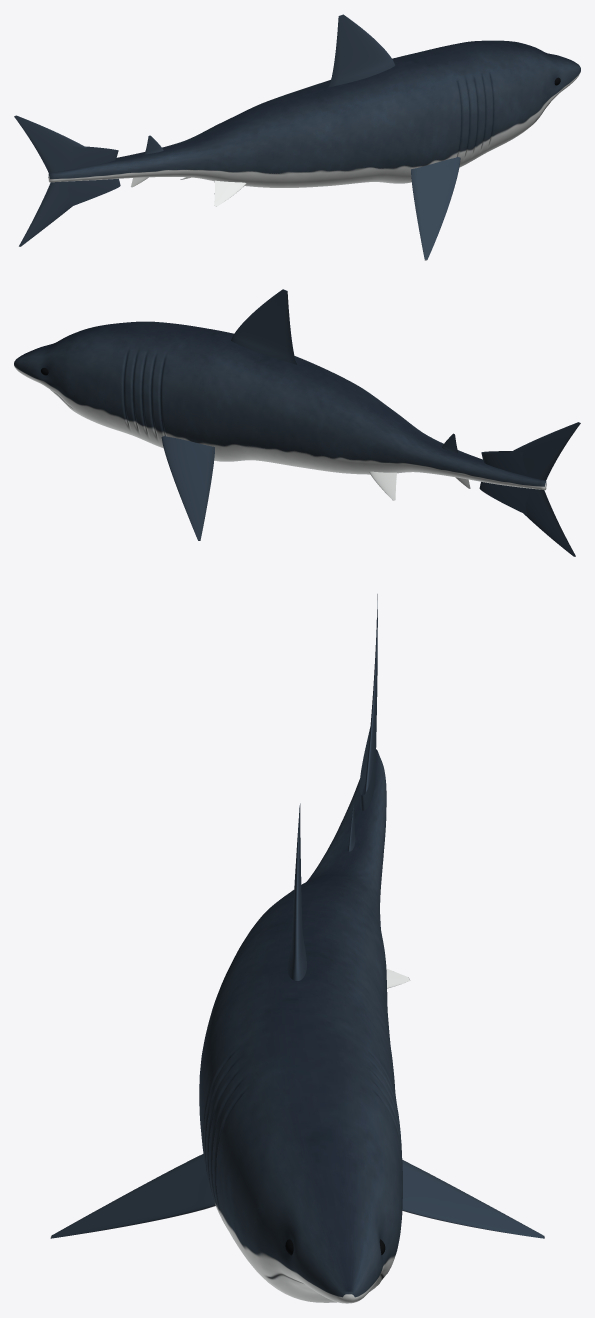
The model's file is salmon_shark.glb.
The picture shows the model from 3 angles, top to bottom: view 1: azimuth 30°, elevation 25°; view 2: azimuth 150°, elevation 25°; view 3: azimuth 270°, elevation 25°; orthographic projection. The views are drawn at different scales.
Visible parts, largest first — view 1: Salmonshark_Body, Salmonshark_Fins; view 2: Salmonshark_Body, Salmonshark_Fins; view 3: Salmonshark_Body, Salmonshark_Fins.
Part boxes in pixels (x1,y1,x2,y2): Salmonshark_Body: (48,40,580,187); Salmonshark_Fins: (14,14,460,260); Salmonshark_Body: (14,321,546,489); Salmonshark_Fins: (161,289,580,556); Salmonshark_Body: (199,749,402,1303); Salmonshark_Fins: (50,594,544,1238).
Bounding box in the file's own units: 2.3 × 0.8084 × 0.881.
3 materials, 1 textured.
